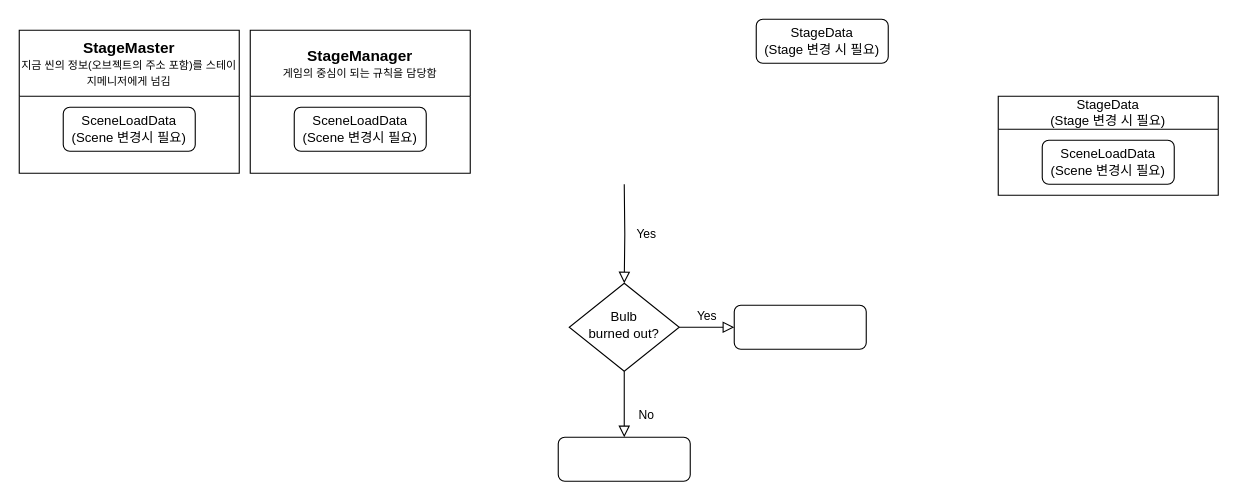
Image size: 1238x501. Some labels were removed from this diagram. Each missing label, with the centre of its shape:
"Repair Lamp" goes at point 623,458.
"Replace Bulb" goes at point 799,326.
